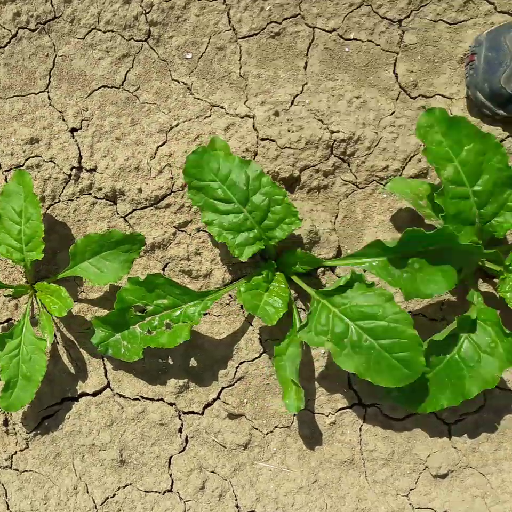sugarbeet: (94, 129, 485, 420), (373, 105, 512, 413), (1, 162, 151, 425)
